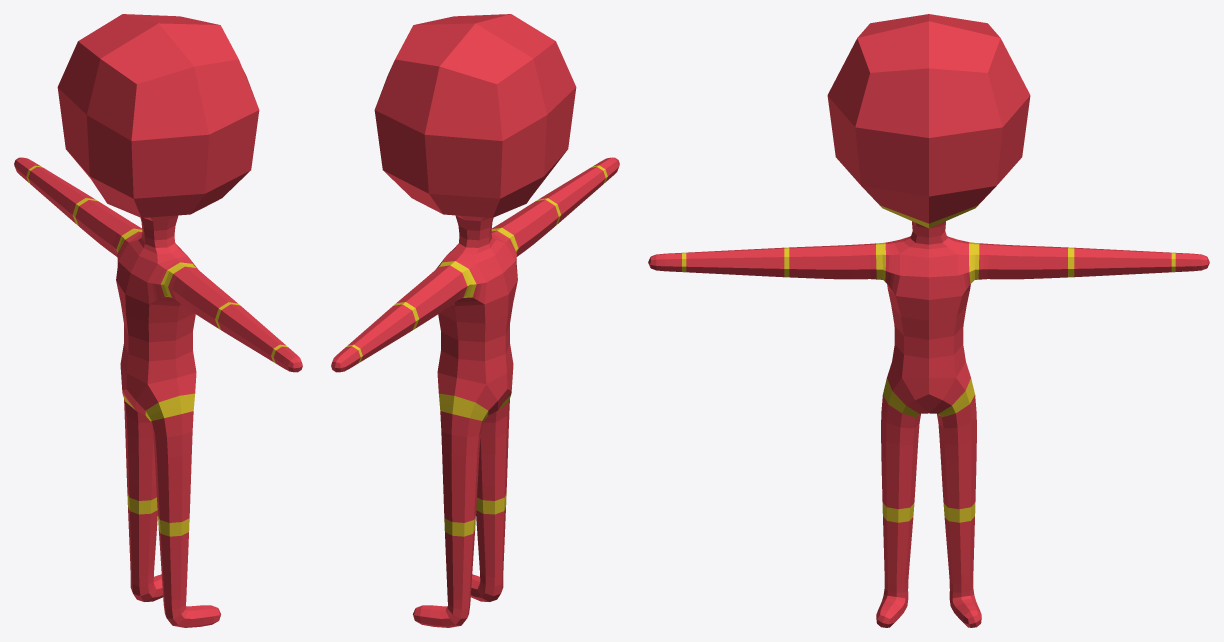
The model's file is Zombie_v1.fbx.
The picture shows the model from 3 angles, left to right: view 1: azimuth 30°, elevation 25°; view 2: azimuth 150°, elevation 25°; view 3: azimuth 270°, elevation 25°; orthographic projection.
Parts seen in each view (by area): view 1: Character_v1; view 2: Character_v1; view 3: Character_v1.
Part boxes in pixels (x1,y1,x2,y2): Character_v1: [14, 14, 302, 627]; Character_v1: [331, 14, 619, 627]; Character_v1: [648, 14, 1209, 627].
Bounding box in the file's own units: 39.13 × 139 × 119.
